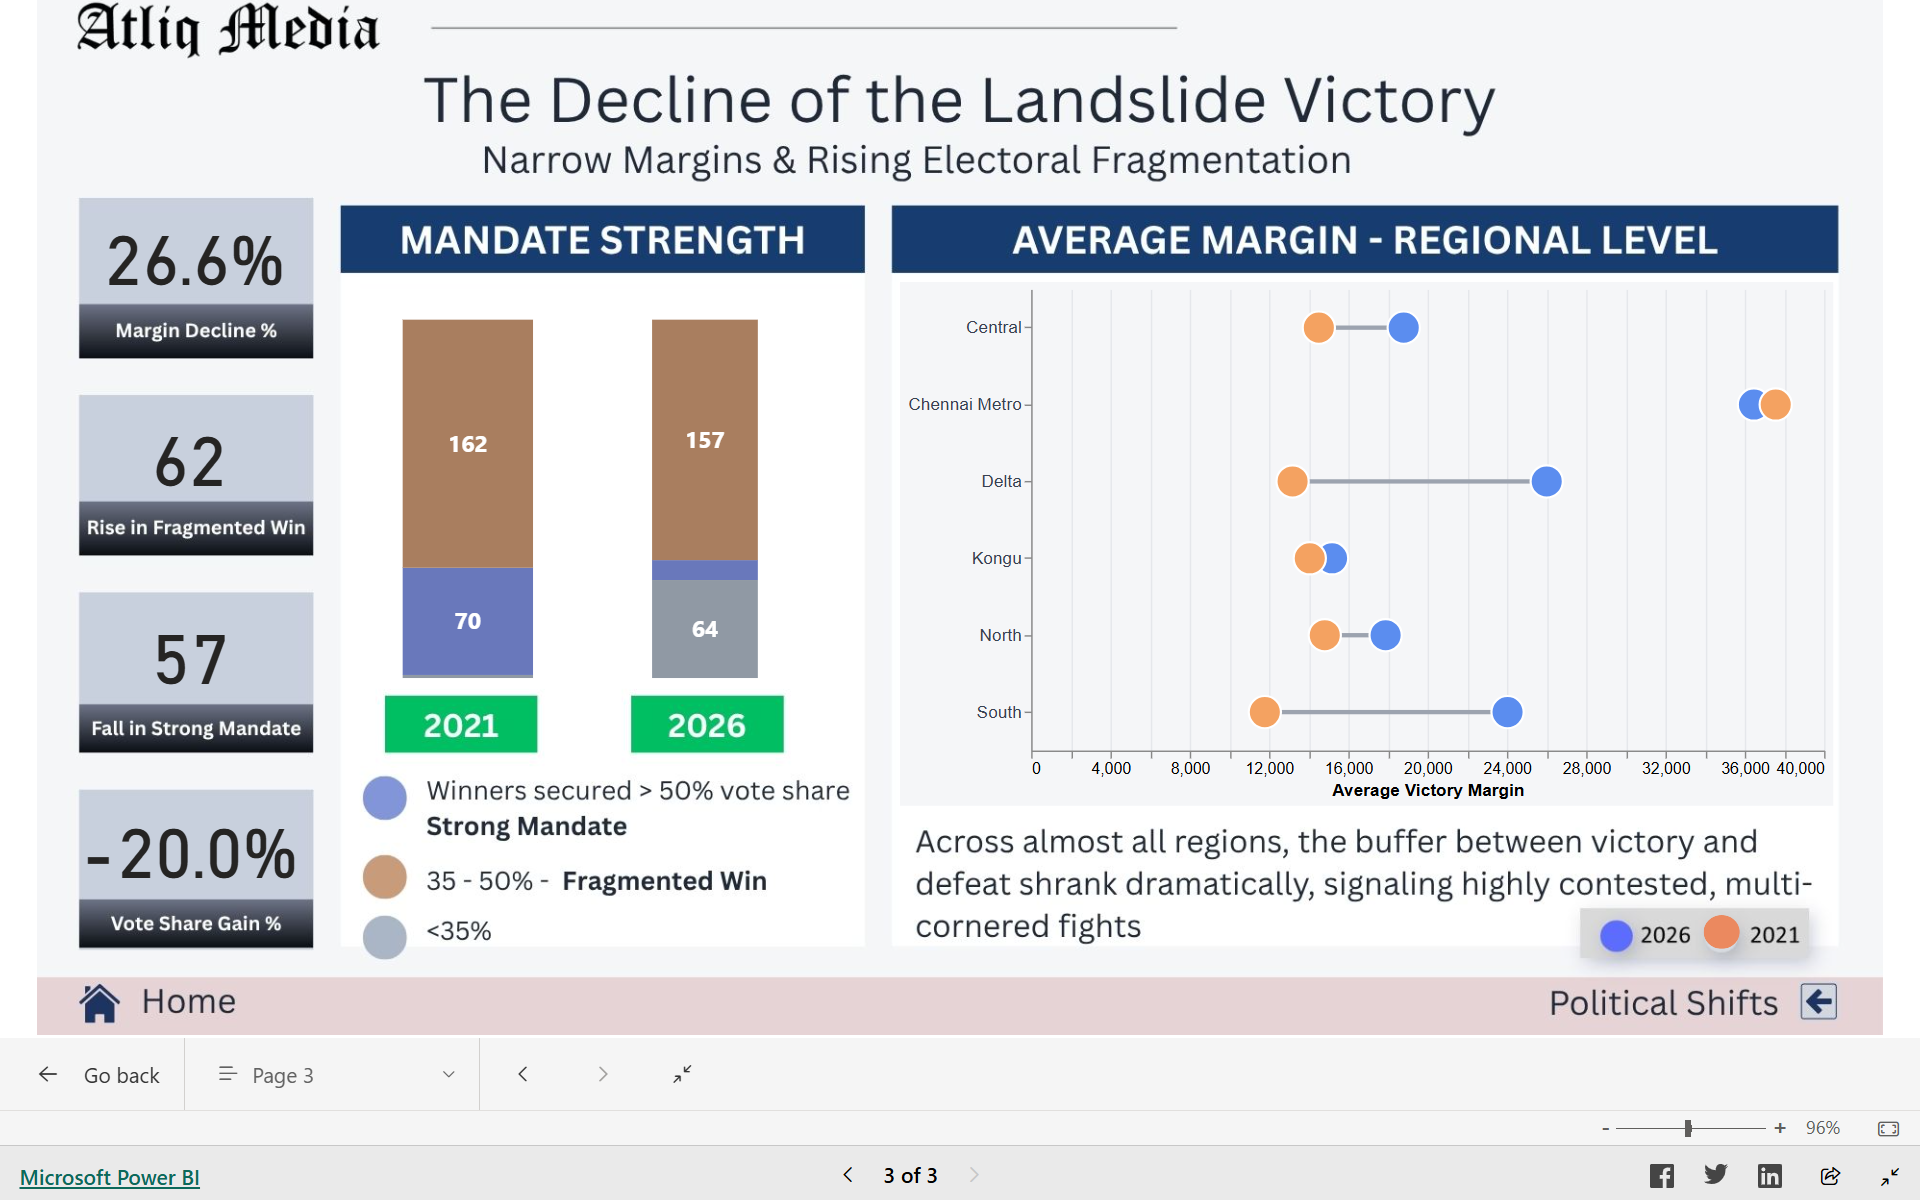

The dashboard page shown, as its layout file describes it:
{"tool":"powerbi","page":{"name":"Page 3","canvas":[1280,720],"ordinal":2},"visuals":[{"type":"card","fields":{"Values":["Table.Vote Share Gain %"]},"box":[24,544,162,84],"z":0},{"type":"deneb7E15AEF80B9E4D4F8E12924291ECE89A","fields":{"dataset":["region_margin_comparison.region","region_margin_comparison.average_margin_2021","region_margin_comparison.average_margin_2026"]},"box":[593.4,190.4,666.3,382.8],"z":1000},{"type":"columnChart","fields":{"Y":["Sum(winner_vote_share_summary.<35%_vote_share)","Sum(winner_vote_share_summary.>50%_vote_share)","Sum(winner_vote_share_summary.35%-50%_vote_share)"],"Category":["winner_vote_share_summary.Year"]},"box":[77,190.4,439.5,285.6],"z":2000},{"type":"columnChart","fields":{"Y":["Sum(winner_vote_share_summary.<35%_vote_share)","Sum(winner_vote_share_summary.>50%_vote_share)","Sum(winner_vote_share_summary.35%-50%_vote_share)"],"Category":["winner_vote_share_summary.Year"]},"box":[281.5,190.4,358.5,285.6],"z":3000},{"type":"card","fields":{"Values":["Table.Margin Decline %"]},"box":[28.4,131.6,162,85.1],"z":4000},{"type":"card","fields":{"Values":["Table.Fragmented Wins Gain"]},"box":[24.3,271.4,162,85.1],"z":5000},{"type":"card","fields":{"Values":["Table.Strong Mandates Lost"]},"box":[24.3,409.1,162,85.1],"z":6000},{"type":"shape","box":[0,667.3,188.4,52.7],"z":7000},{"type":"shape","box":[1028.9,668.4,230.9,52.7],"z":8000},{"type":"shape","box":[1156.1,634.8,25.2,23.6],"z":9000}]}

Visuals, with their boxes on the page's 1280x720 design canvas (x1, y1, x2, y2). These are canvas units, not pixel positions in the 1920x1200 screenshot, which may show the page scaled, cropped or inside an application window:
card - Table.Vote Share Gain %: [24, 544, 186, 628]
deneb7E15AEF80B9E4D4F8E12924291ECE89A - region_margin_comparison.region x region_margin_comparison.average_margin_2021: [593, 190, 1260, 573]
columnChart - Sum(winner_vote_share_summary.<35%_vote_share) x Sum(winner_vote_share_summary.>50%_vote_share): [77, 190, 516, 476]
columnChart - Sum(winner_vote_share_summary.<35%_vote_share) x Sum(winner_vote_share_summary.>50%_vote_share): [282, 190, 640, 476]
card - Table.Margin Decline %: [28, 132, 190, 217]
card - Table.Fragmented Wins Gain: [24, 271, 186, 356]
card - Table.Strong Mandates Lost: [24, 409, 186, 494]
shape: [0, 667, 188, 720]
shape: [1029, 668, 1260, 721]
shape: [1156, 635, 1181, 658]
